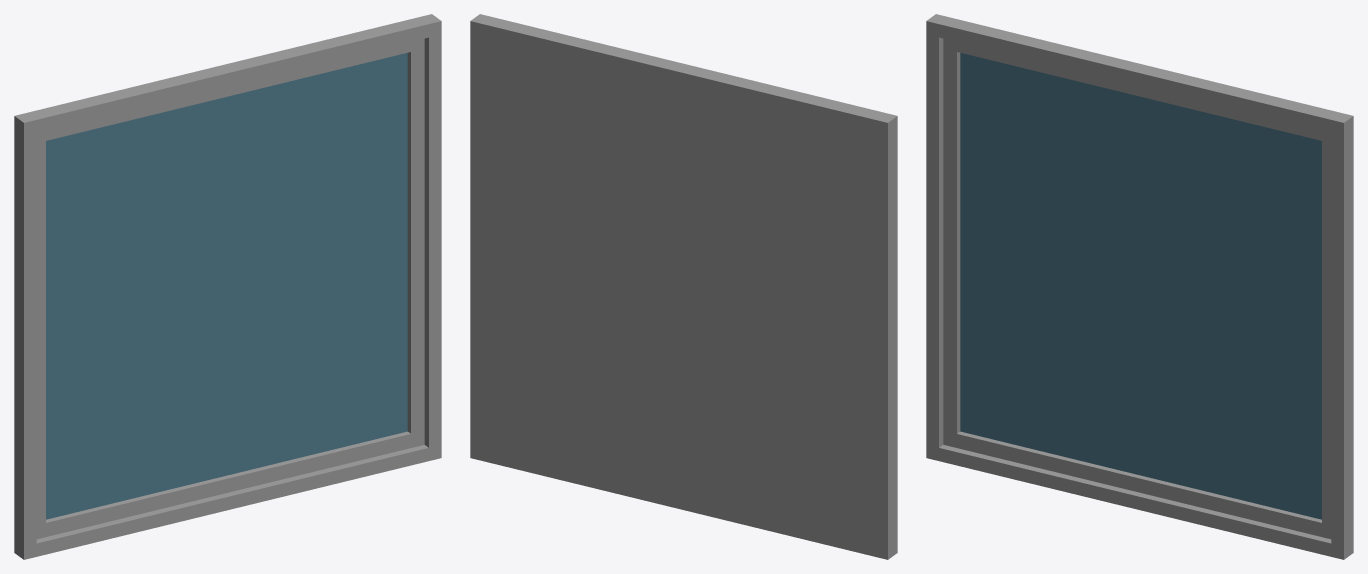
The model's file is window013.glb.
3 renders of one model, left to right at view 1: azimuth 30°, elevation 25°; view 2: azimuth 150°, elevation 25°; view 3: azimuth 330°, elevation 25°, orthographic.
Parts seen in each view (by area): view 1: window.013; view 2: window.013; view 3: window.013.
Part boxes in pixels (<box>): window.013: <box>14,14,441,559</box>; window.013: <box>470,14,897,559</box>; window.013: <box>926,14,1353,559</box>.
Bounding box in the file's own units: 2 × 2 × 0.08.
1 material, 1 textured.
